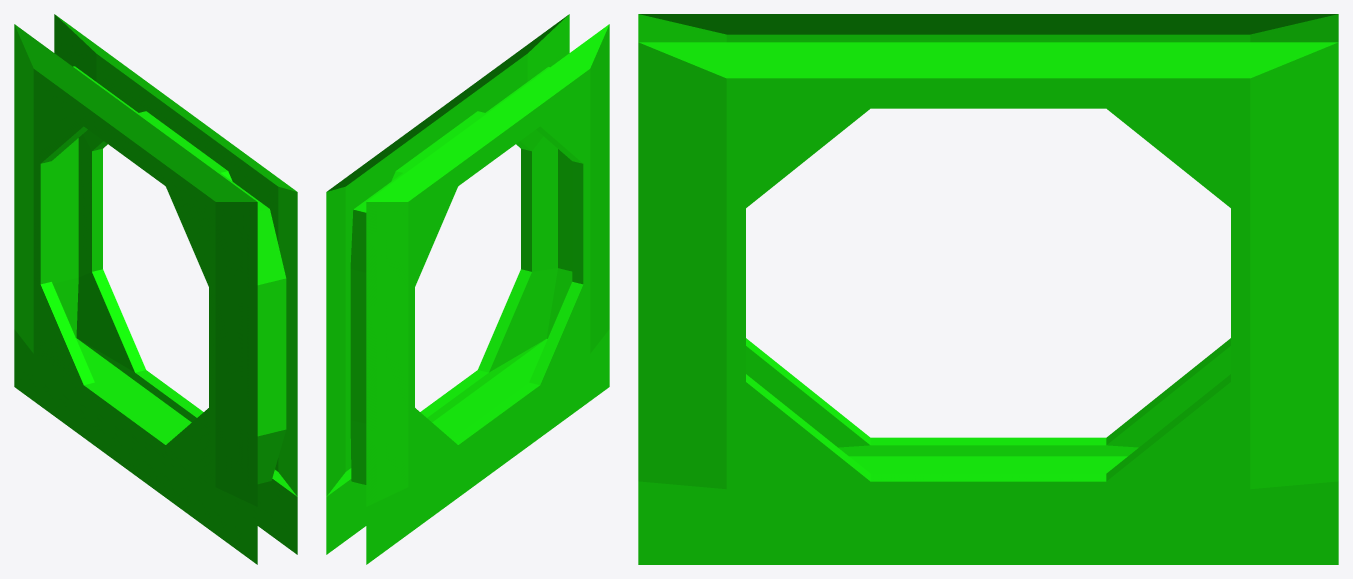
File: Small_Door_Marco.FBX
3 renders of one model, left to right at view 1: azimuth 30°, elevation 25°; view 2: azimuth 150°, elevation 25°; view 3: azimuth 270°, elevation 25°, orthographic. The views are drawn at different scales.
Parts seen in each view (by area): view 1: DoorFrame004; view 2: DoorFrame004; view 3: DoorFrame004.
Part boxes in pixels (left/top/right/bottom): DoorFrame004: left=14, top=14, right=297, bottom=564; DoorFrame004: left=326, top=14, right=609, bottom=564; DoorFrame004: left=638, top=14, right=1338, bottom=564.
Bounding box in the file's own units: 0.6735 × 3.74 × 4.54.
